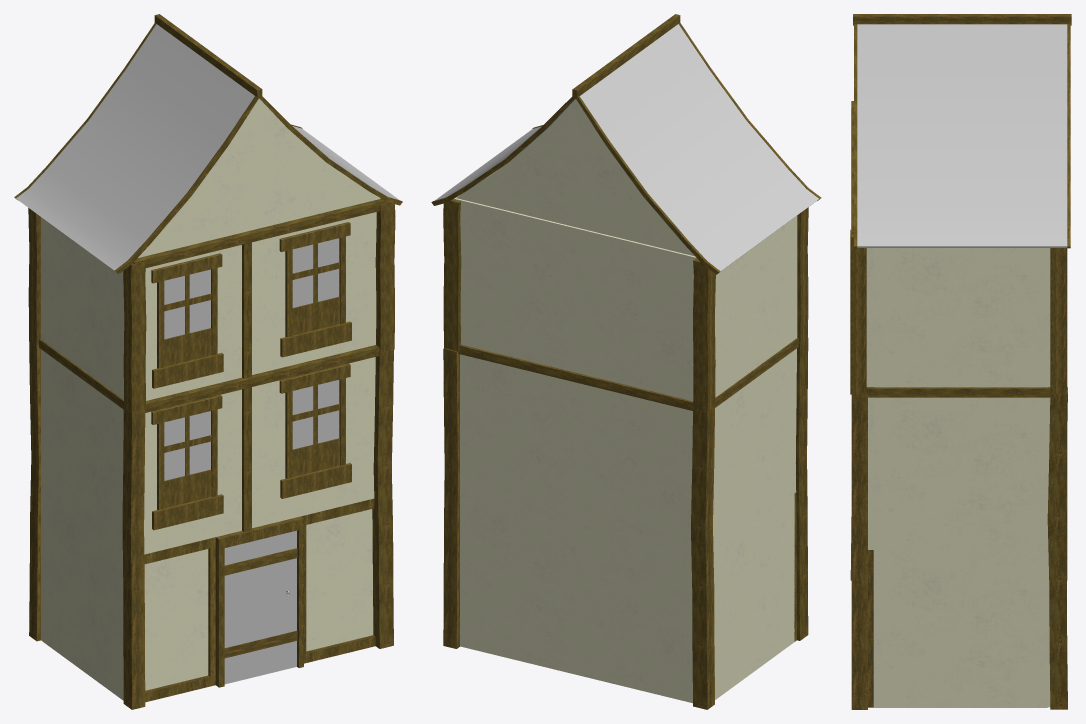
Rendered from Town House.fbx.
The picture shows the model from 3 angles, left to right: view 1: azimuth 30°, elevation 25°; view 2: azimuth 150°, elevation 25°; view 3: azimuth 270°, elevation 25°; orthographic projection. The views are drawn at different scales.
Parts seen in each view (by area): view 1: Roof19, Roof_End6, Wall_Plane19, Wall_Plane18, Wall_Frame_Half11, Wall_Frame_Half10, Wall_Plane17, Door_Open_Door3, Wall_Plane10, Wall_Plane12, Window_Rectangle7, Window_Rectangle5 (+18 smaller); view 2: Roof19, Wall_Plane24, Wall_Plane28, Wall_Plane26, Wall_Plane23, Wall_Plane27, Wall_Plane25, Roof_End15, Wall_Plane19, Wall_Plane18, Wall_Plane17, Wood_Pillar_Long_Thick4 (+10 smaller); view 3: Roof19, Wall_Plane16, Wall_Plane15, Wall_Plane14, Wood_Pillar_Long_Thick3, Wood_Pillar_Long_Thick2, Wood_Pillar_Thick36, Wood_Pillar_Thick35, Roof_Top_Plank11, Wood_Plank_Long4, Wall_Plane12, Wall_Frame_Half10 (+6 smaller).
Part boxes in pixels (<box>): Roof19: <box>16,24,398,270</box>; Roof_End6: <box>138,98,379,257</box>; Wall_Plane19: <box>42,494,123,700</box>; Wall_Plane18: <box>42,350,123,551</box>; Wall_Frame_Half11: <box>144,537,215,702</box>; Wall_Frame_Half10: <box>301,498,375,663</box>; Wall_Plane17: <box>42,218,124,399</box>; Door_Open_Door3: <box>224,530,297,684</box>; Wall_Plane10: <box>252,357,375,528</box>; Wall_Plane12: <box>252,195,380,374</box>; Window_Rectangle7: <box>279,363,351,498</box>; Window_Rectangle5: <box>151,253,223,388</box>; Roof19: <box>435,24,818,271</box>; Wall_Plane24: <box>460,498,592,678</box>; Wall_Plane28: <box>453,195,592,376</box>; Wall_Plane26: <box>460,354,592,529</box>; Wall_Plane23: <box>592,530,692,703</box>; Wall_Plane27: <box>592,231,696,400</box>; Wall_Plane25: <box>592,387,692,553</box>; Roof_End15: <box>456,99,694,256</box>; Wall_Plane19: <box>713,493,794,699</box>; Wall_Plane18: <box>713,350,794,552</box>; Wall_Plane17: <box>715,217,794,397</box>; Wood_Pillar_Long_Thick4: <box>691,407,714,709</box>; Roof19: <box>857,24,1067,247</box>; Wall_Plane16: <box>873,550,1047,707</box>; Wall_Plane15: <box>873,397,1047,550</box>; Wall_Plane14: <box>873,248,1047,387</box>; Wood_Pillar_Long_Thick3: <box>1047,387,1067,709</box>; Wood_Pillar_Long_Thick2: <box>851,394,867,709</box>; Wood_Pillar_Thick36: <box>850,229,866,394</box>; Wood_Pillar_Thick35: <box>1050,248,1066,394</box>; Roof_Top_Plank11: <box>853,14,1071,25</box>; Wood_Plank_Long4: <box>866,387,1050,397</box>; Wall_Plane12: <box>866,248,873,386</box>; Wall_Frame_Half10: <box>868,550,873,707</box>.
Size of the model in its own units: 634 by 1240 by 397.
